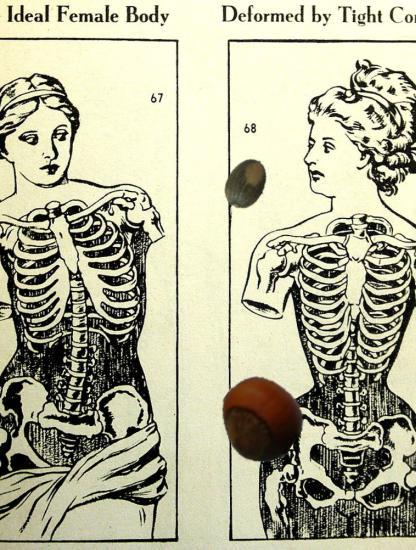Melon: (222, 159, 275, 212)
Nut: (218, 378, 301, 461)
